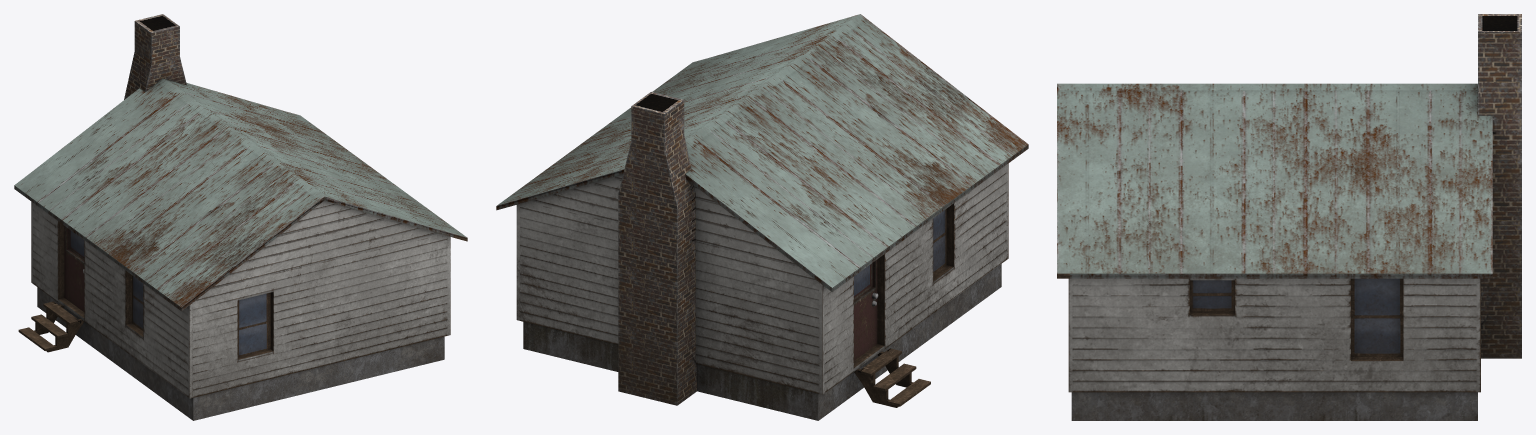
Rendered from house_test.glb.
3 renders of one model, left to right at view 1: azimuth 30°, elevation 25°; view 2: azimuth 150°, elevation 25°; view 3: azimuth 270°, elevation 25°, orthographic. The views are drawn at different scales.
Parts seen in each view (by area): view 1: Object001_unknown_0; view 2: Object001_unknown_0; view 3: Object001_unknown_0.
Part boxes in pixels (left/top/right/bottom): Object001_unknown_0: left=14, top=14, right=467, bottom=420; Object001_unknown_0: left=496, top=14, right=1028, bottom=420; Object001_unknown_0: left=1057, top=14, right=1521, bottom=420.
Bounding box in the file's own units: 955 × 717 × 944.
1 material, 1 textured.
